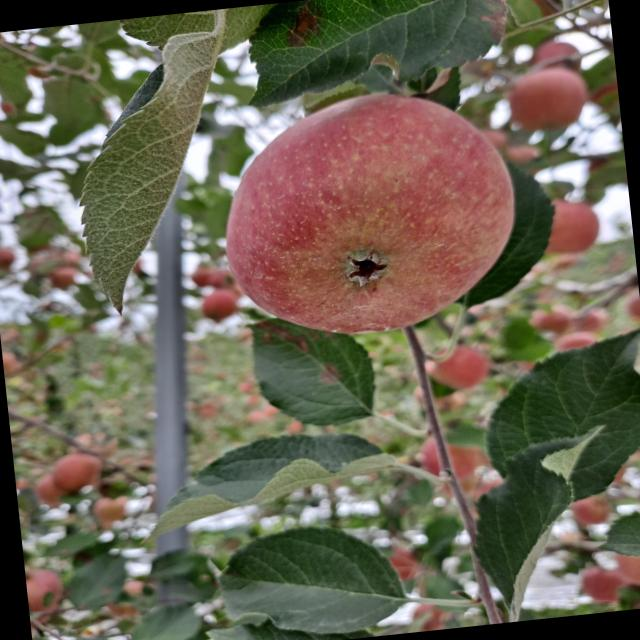fresh: (201, 73, 535, 354)
